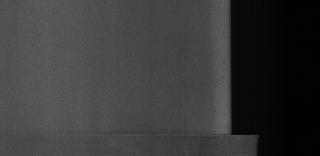welding line: (1, 127, 267, 143)
